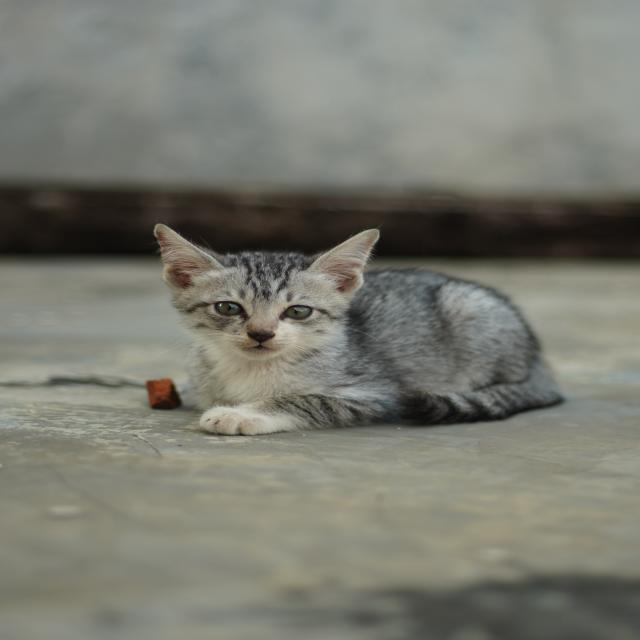cat: (114, 211, 598, 443)
